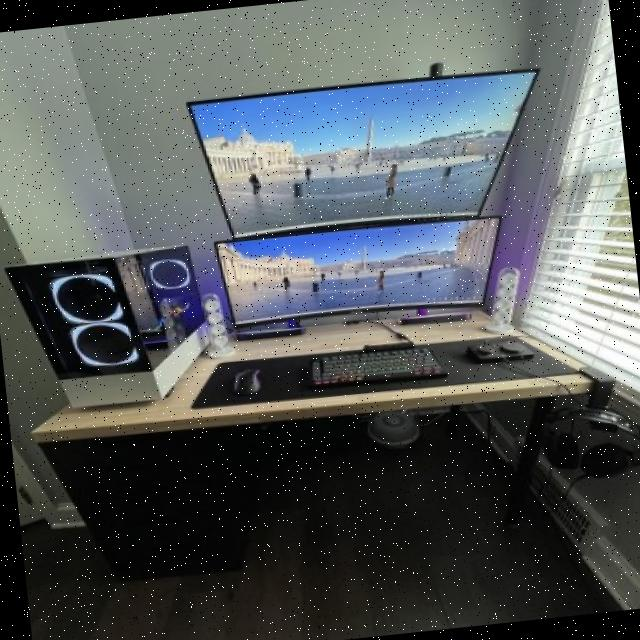Computer: (0, 237, 222, 420)
Monitor: (157, 51, 564, 246), (203, 205, 534, 348)
